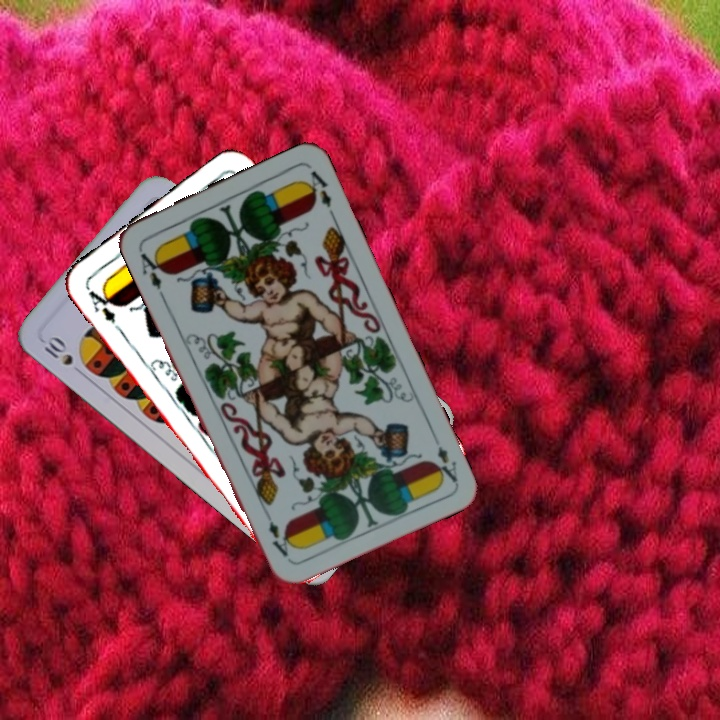EA: (428, 430, 460, 486), (135, 244, 169, 292), (82, 282, 119, 326)
S10: (37, 331, 76, 369)
